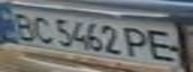2: (100, 22, 124, 56)
4: (66, 19, 87, 51)
5: (51, 16, 75, 47)
6: (84, 20, 106, 53)
B: (6, 10, 39, 42)
C: (27, 14, 57, 45)
E: (142, 26, 187, 64)
P: (121, 25, 154, 60)
